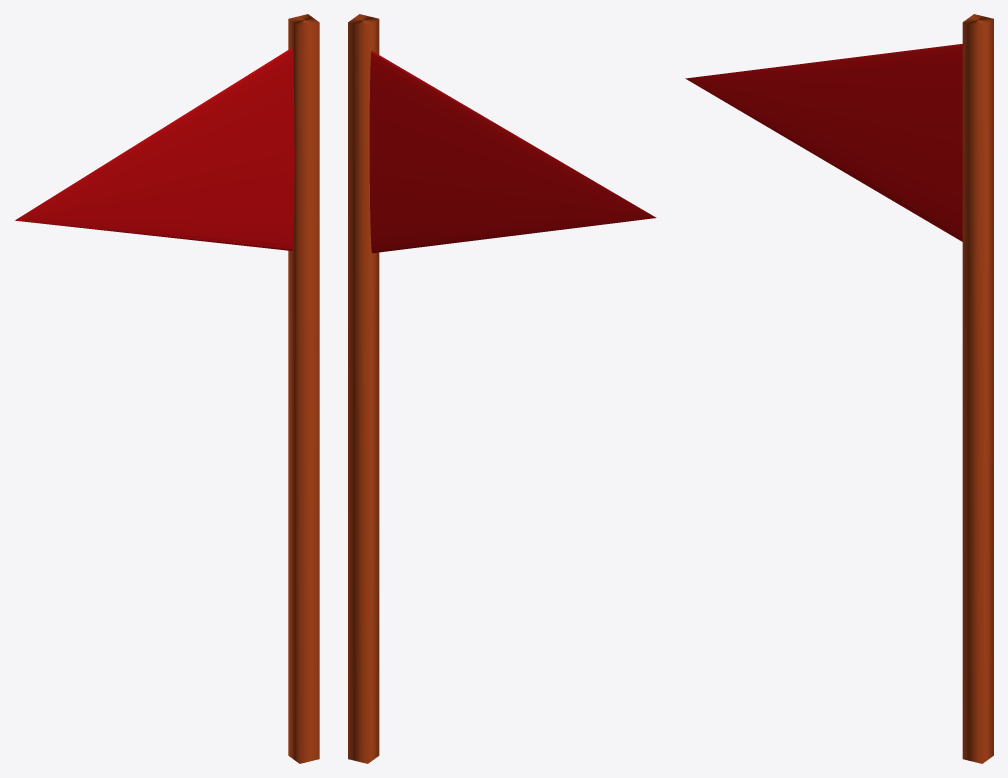
Rendered from Red flag.obj.
3 views of the same model, side by side, from view 1: azimuth 30°, elevation 25°; view 2: azimuth 150°, elevation 25°; view 3: azimuth 330°, elevation 25° (orthographic).
Parts seen in each view (by area): view 1: Cone, Cube; view 2: Cone, Cube; view 3: Cone, Cube.
Part boxes in pixels (box(x1,y1,x2,y2)): Cone: box(15, 48, 294, 250); Cube: box(288, 14, 319, 763); Cone: box(369, 51, 656, 253); Cube: box(348, 14, 379, 763); Cone: box(685, 44, 962, 241); Cube: box(962, 14, 993, 763).
Size of the model in its own units: 3.05 by 7.12 by 0.2.
